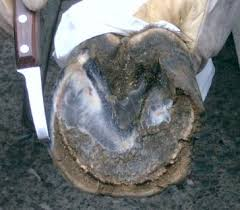horsesole: (44, 52, 207, 196)
